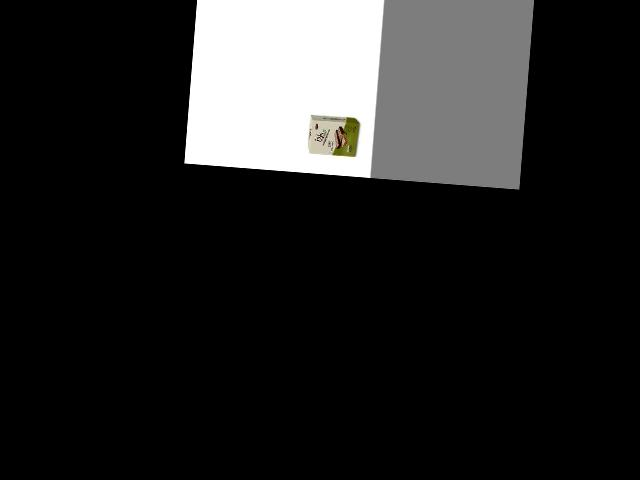chocolate: (305, 111, 362, 161)
